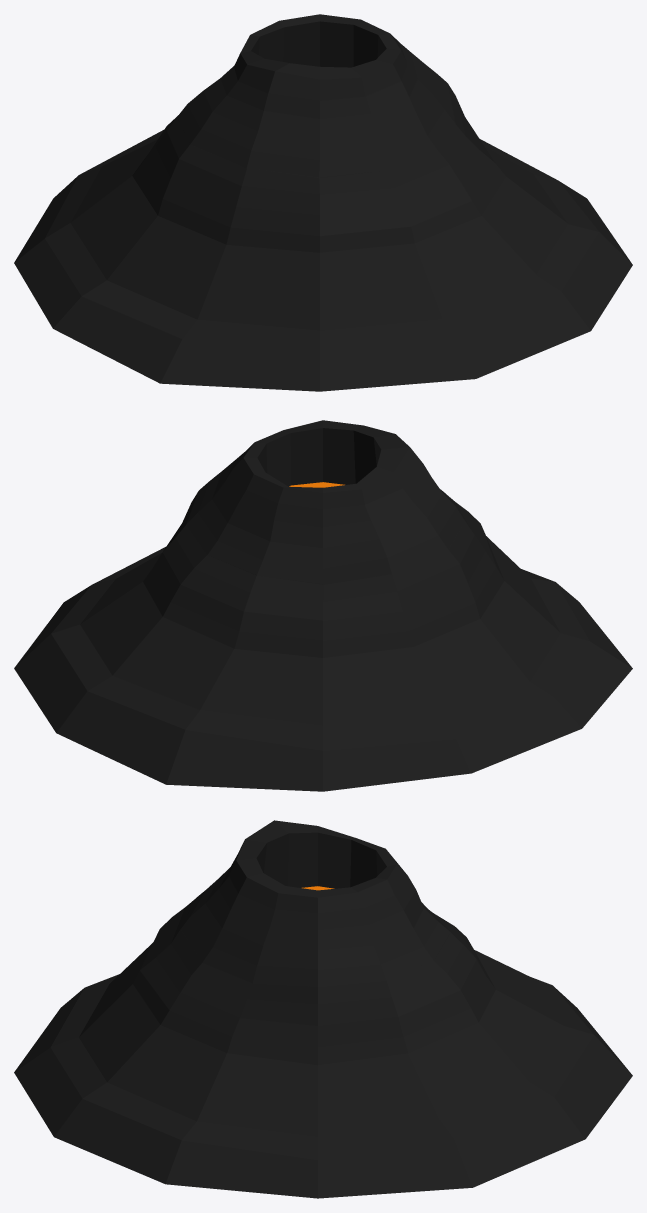
The model's file is Volcano.fbx.
3 views of the same model, one above another, from view 1: azimuth 30°, elevation 25°; view 2: azimuth 150°, elevation 25°; view 3: azimuth 270°, elevation 25° (orthographic). The views are drawn at different scales.
Visible parts, largest first — view 1: Volcano; view 2: Volcano; view 3: Volcano.
Boxes of the visible parts, x1,y1,x2,y2 form: Volcano: [14, 14, 632, 391]; Volcano: [14, 420, 632, 791]; Volcano: [14, 820, 632, 1198].
Bounding box in the file's own units: 2078 × 853 × 2142.
